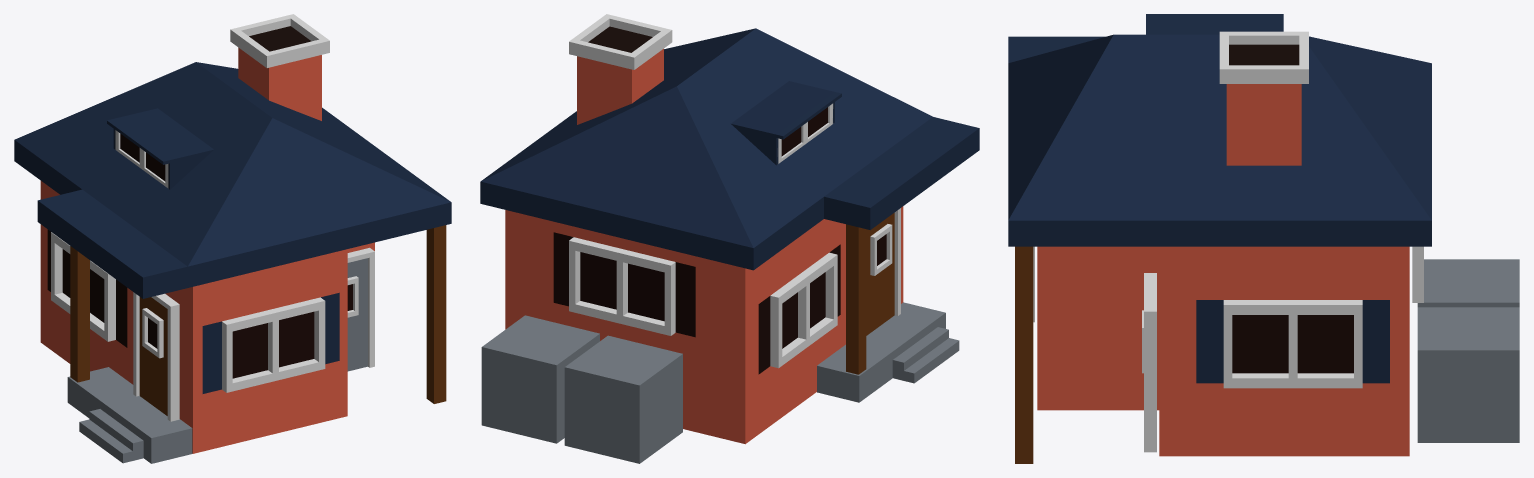
The model's file is 2025-11-25-Boswell-BaseHouse-v004.fbx.
3 views of the same model, side by side, from view 1: azimuth 30°, elevation 25°; view 2: azimuth 150°, elevation 25°; view 3: azimuth 270°, elevation 25° (orthographic). The views are drawn at different scales.
Parts seen in each view (by area): view 1: House; view 2: House; view 3: House.
Part boxes in pixels (box(x1,y1,x2,y2)): House: box(14, 14, 451, 463); House: box(480, 14, 979, 463); House: box(1008, 14, 1519, 463).
Bounding box in the file's own units: 400 × 380 × 469.
Materials: 1 (1 with a texture image).
